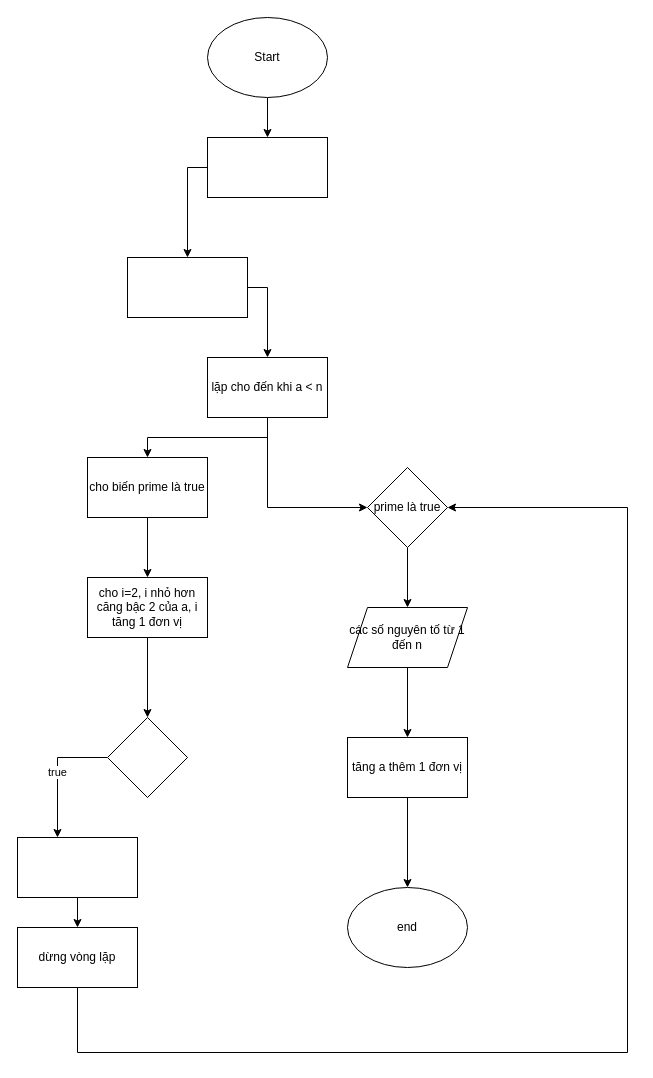
This 653x1078 diagram has some shape labels left out. Here are the shapes that lost their labels. From the top down, the box of each, then its label:
(206, 136, 328, 198): nhập số n
(126, 256, 248, 318): a = 2
(106, 716, 188, 798): a chi hết cho i
(16, 836, 138, 898): cho biến prime là false
